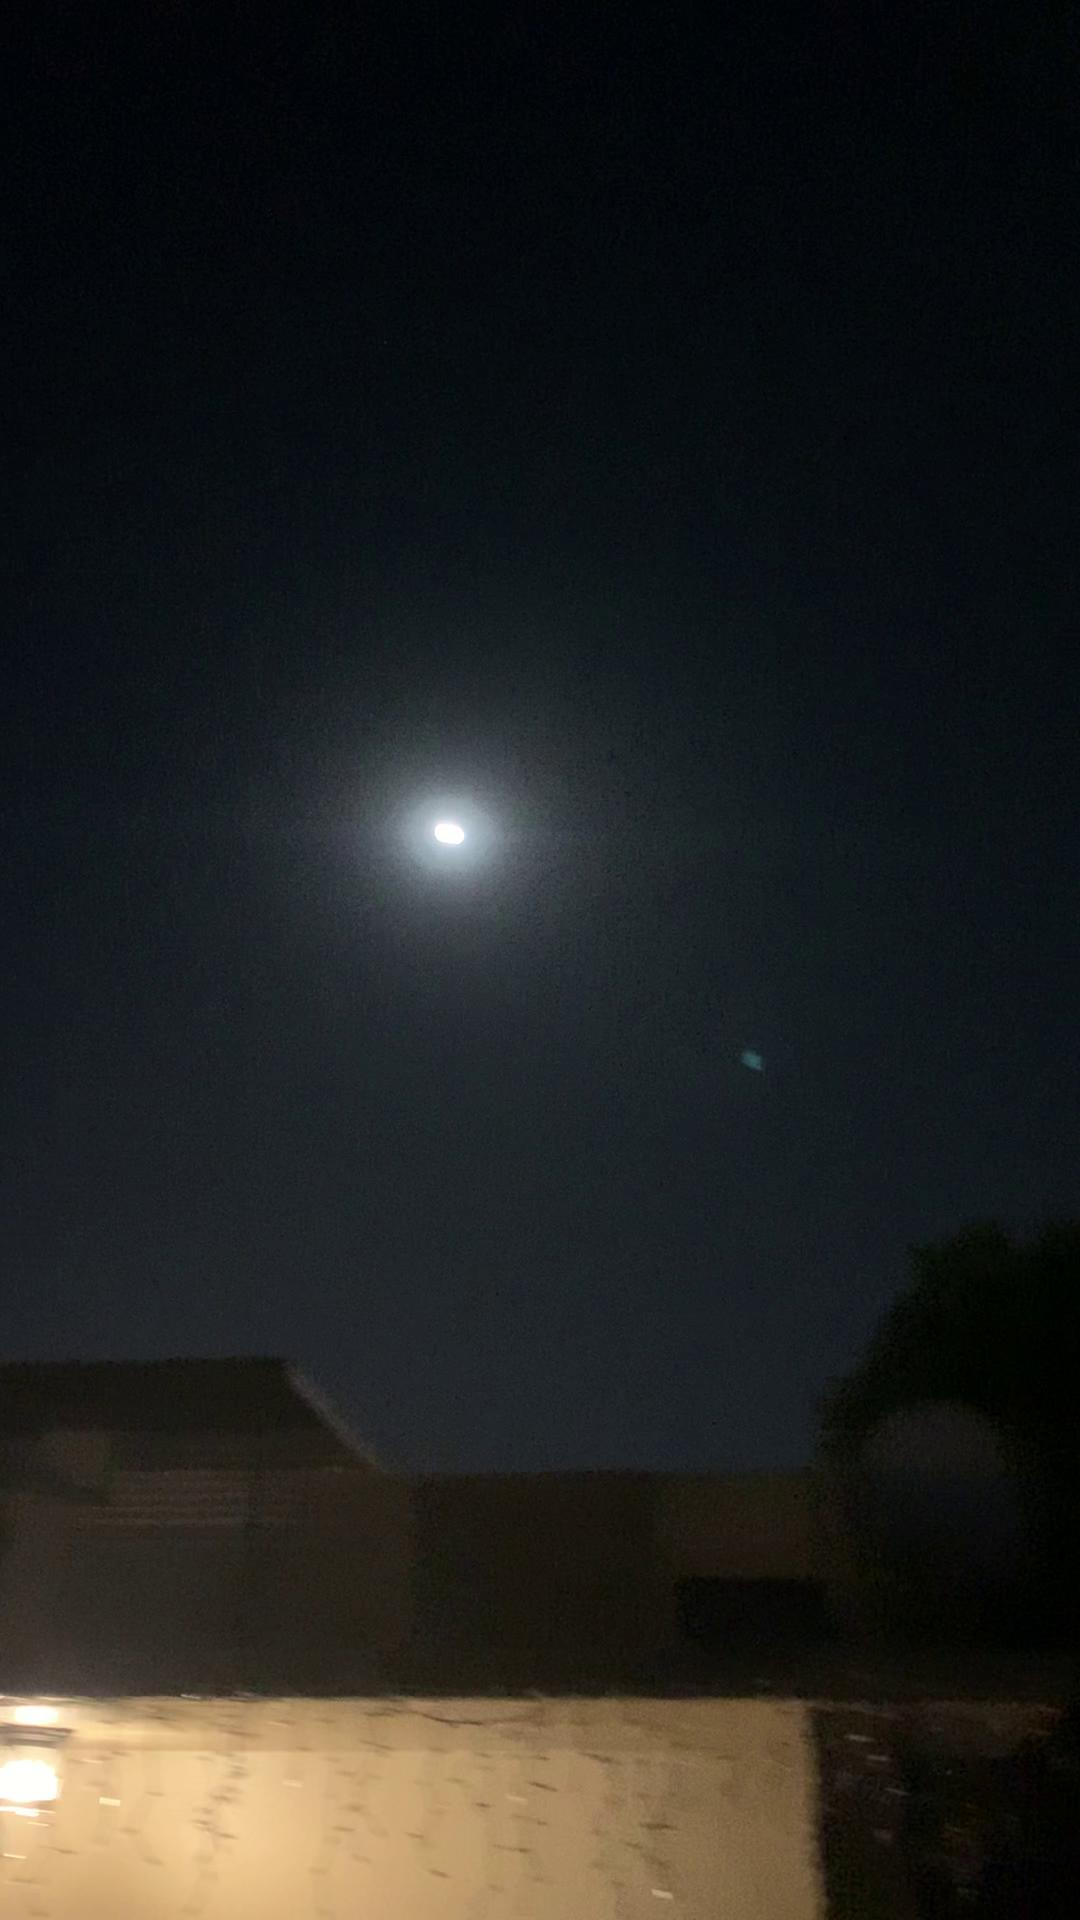moon: (398, 802, 485, 881)
